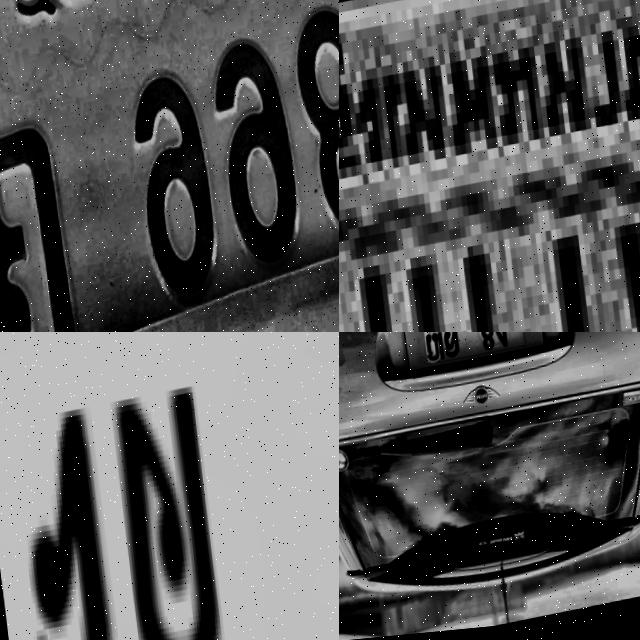license-plate: (0, 0, 339, 332), (0, 332, 339, 640), (339, 0, 640, 332), (397, 332, 550, 389)
